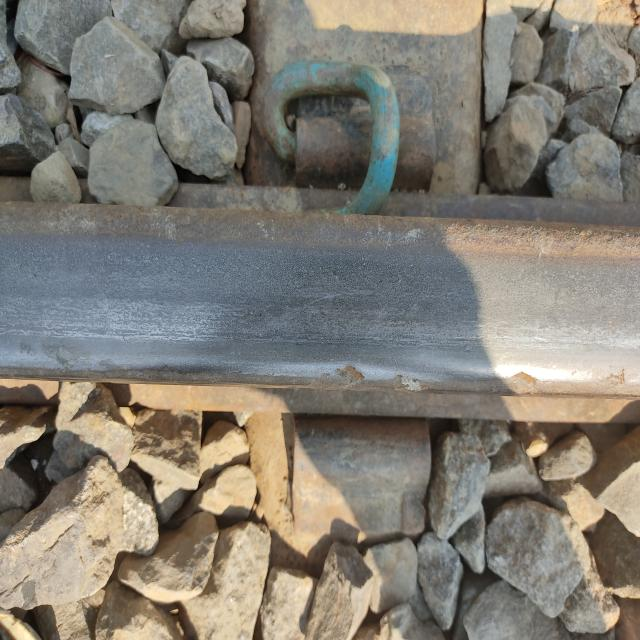defective: (251, 349, 479, 599)
